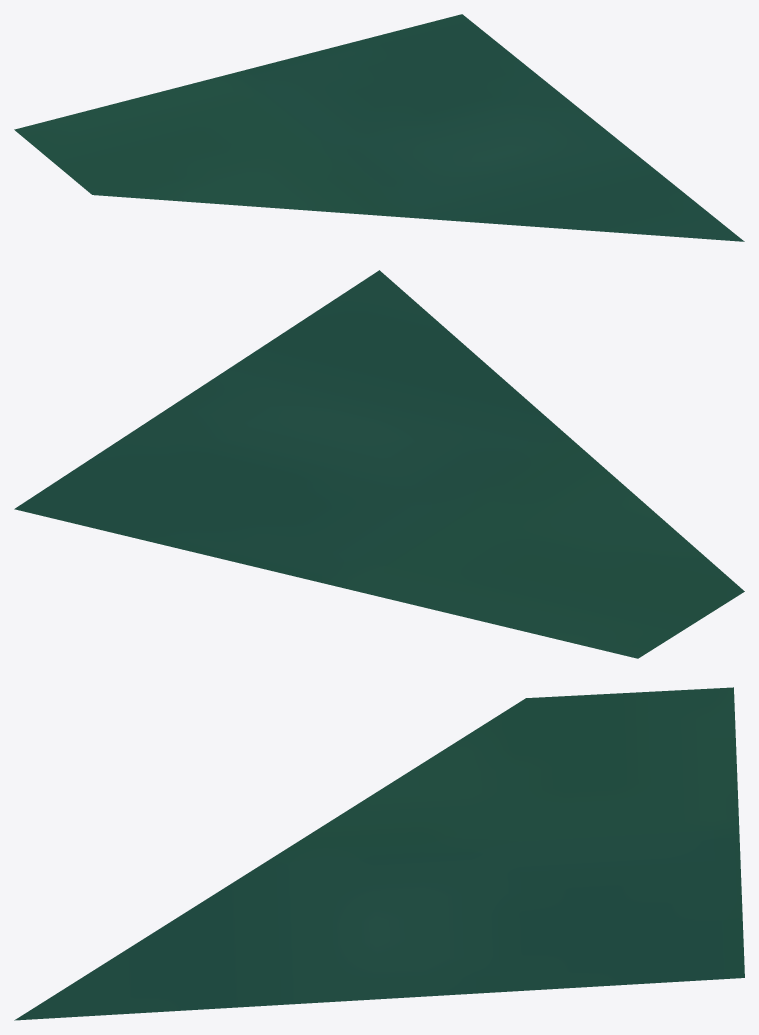
The picture shows the model from 3 angles, top to bottom: view 1: azimuth 30°, elevation 25°; view 2: azimuth 150°, elevation 25°; view 3: azimuth 270°, elevation 25°; orthographic projection. The views are drawn at different scales.
Size of what is drawn, in the model's own units: 2.9 by 0.1704 by 3.
Materials: 1 (1 with a texture image).
